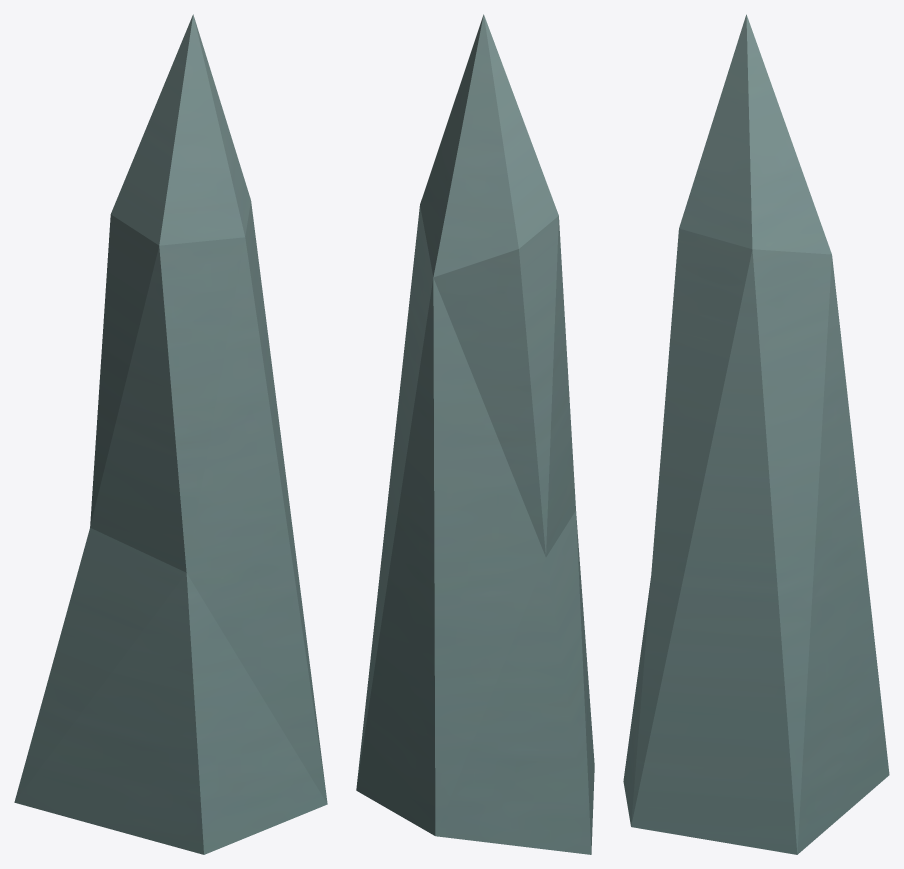
File: icicle_A.obj
The picture shows the model from 3 angles, left to right: view 1: azimuth 30°, elevation 25°; view 2: azimuth 150°, elevation 25°; view 3: azimuth 270°, elevation 25°; orthographic projection.
Parts seen in each view (by area): view 1: icicle_A; view 2: icicle_A; view 3: icicle_A.
Boxes of the visible parts, <box> form: icicle_A: <box>14,14,327,854</box>; icicle_A: <box>356,14,594,854</box>; icicle_A: <box>623,14,889,854</box>.
Bounding box in the file's own units: 0.1282 × 0.3911 × 0.1191.
